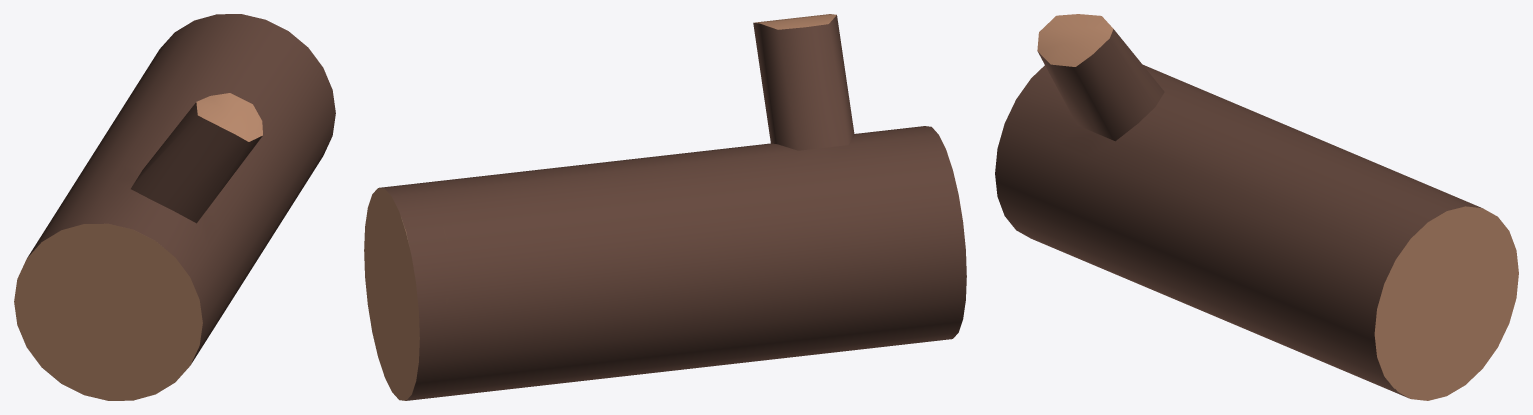
File: Wood.fbx
3 views of the same model, side by side, from view 1: azimuth 30°, elevation 25°; view 2: azimuth 150°, elevation 25°; view 3: azimuth 270°, elevation 25° (orthographic). The views are drawn at different scales.
Parts seen in each view (by area): view 1: Wood; view 2: Wood; view 3: Wood.
Part boxes in pixels (left/top/right/bottom): Wood: left=14, top=14, right=335, bottom=400; Wood: left=364, top=14, right=966, bottom=400; Wood: left=995, top=14, right=1518, bottom=400.
Bounding box in the file's own units: 0.763 × 0.763 × 0.4389.
1 material, 1 textured.
